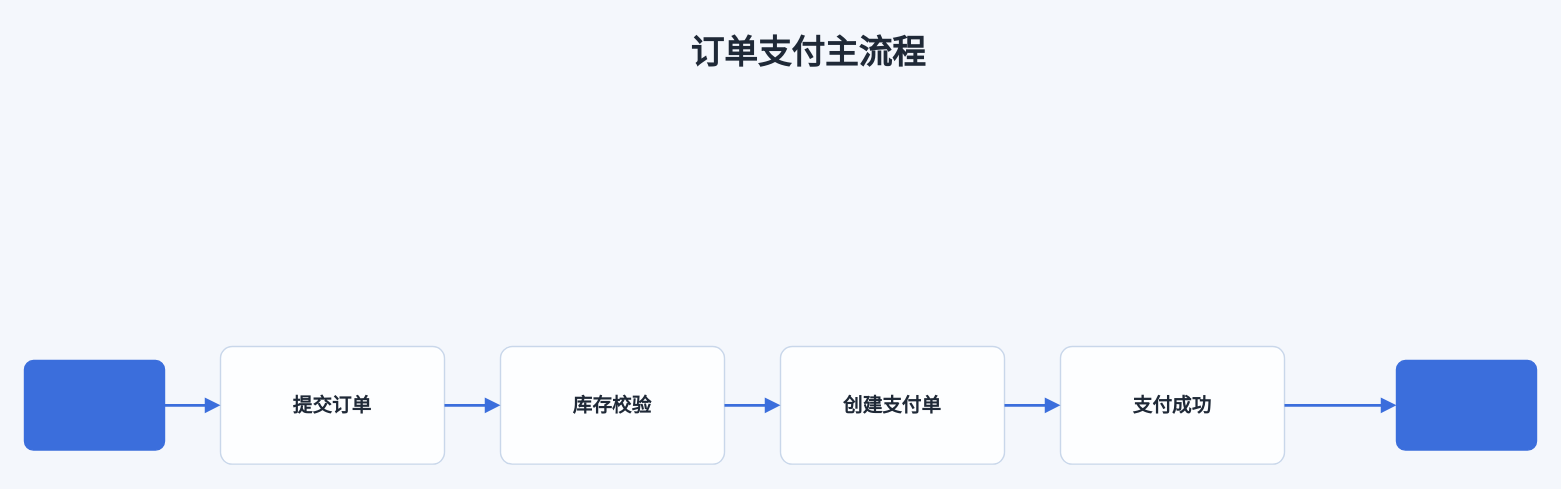
The diagram is 1561 pixels wide and 489 high, and some of its shapes have lost their labels. The shapes that lost their labels are listed below. From the top down, each one's centre as x and y in pixels, then its label:
At point (93, 404): "开始".
At point (1465, 404): "结束".
